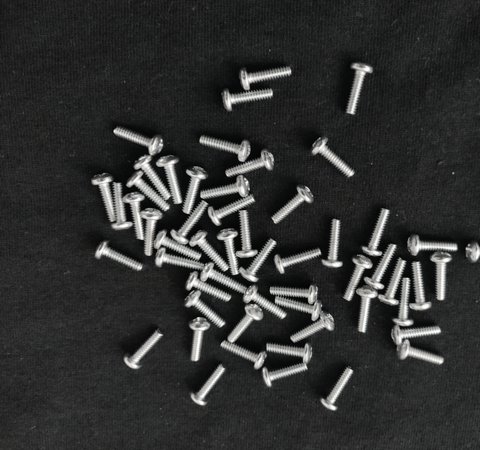shortscrew: (310, 136, 356, 178), (126, 171, 170, 212), (124, 328, 165, 370), (171, 200, 209, 245), (133, 154, 171, 199), (318, 365, 355, 411), (240, 237, 277, 283), (272, 185, 315, 224), (183, 290, 227, 328), (242, 284, 287, 321), (185, 269, 233, 303), (199, 132, 251, 163), (189, 363, 226, 406), (345, 61, 374, 115), (227, 303, 265, 344), (208, 193, 255, 226), (342, 254, 374, 302), (113, 126, 164, 156), (364, 245, 398, 290), (224, 148, 274, 178), (289, 311, 335, 343), (94, 241, 143, 271), (154, 230, 201, 261), (156, 152, 184, 204), (201, 262, 246, 294), (362, 208, 391, 256), (221, 340, 267, 370), (240, 65, 292, 91), (379, 258, 407, 306), (181, 166, 209, 214), (91, 173, 117, 223), (406, 262, 432, 311), (260, 363, 308, 389), (201, 176, 250, 201), (222, 88, 273, 112), (398, 340, 445, 366), (155, 247, 205, 271), (140, 208, 164, 257), (430, 251, 453, 301), (407, 234, 458, 256), (217, 229, 240, 276), (355, 286, 378, 333), (277, 297, 322, 321), (111, 183, 133, 231), (123, 192, 145, 240), (269, 284, 319, 305), (322, 219, 343, 268), (393, 278, 414, 327), (268, 342, 312, 365), (189, 317, 211, 362), (239, 211, 259, 259), (465, 241, 480, 263)
